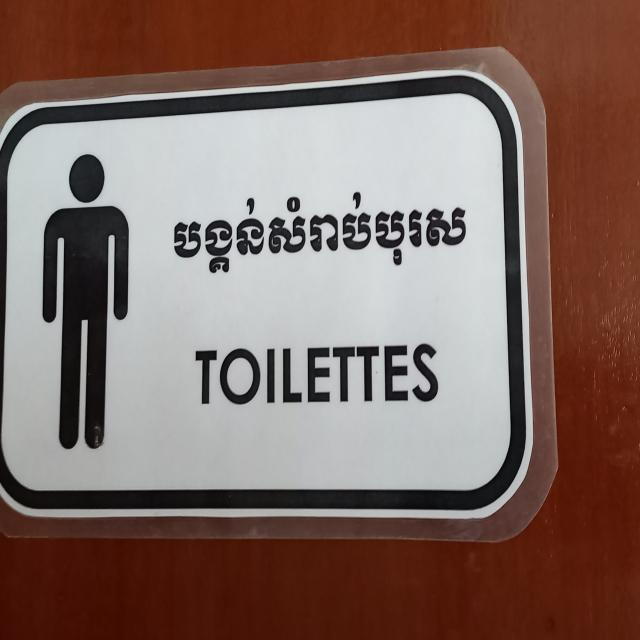Yolov11kh: (169, 175, 468, 293)
